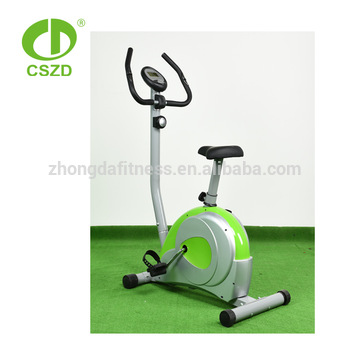gym_bike: (101, 42, 294, 327)
